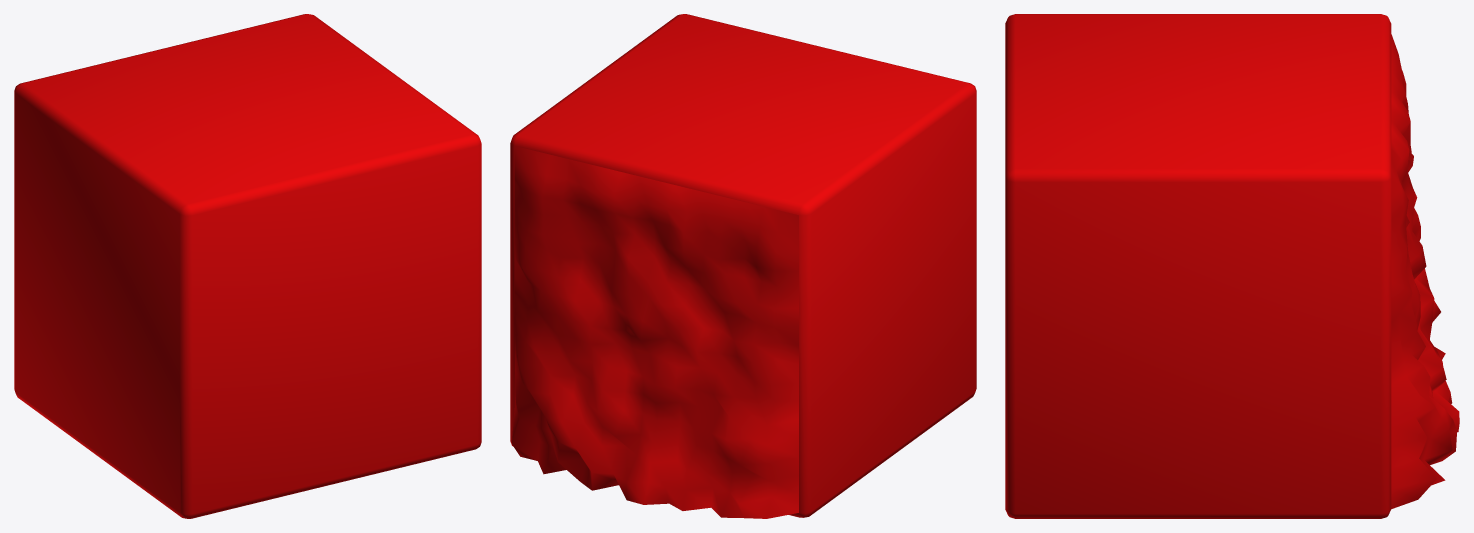
Rendered from wall_death.fbx.
3 renders of one model, left to right at view 1: azimuth 30°, elevation 25°; view 2: azimuth 150°, elevation 25°; view 3: azimuth 270°, elevation 25°, orthographic. The views are drawn at different scales.
Parts seen in each view (by area): view 1: wall_death; view 2: wall_death, wall_death_anim; view 3: wall_death, wall_death_anim.
Part boxes in pixels (box(x1,y1,x2,y2)): wall_death: box(14, 14, 481, 518); wall_death: box(510, 14, 976, 517); wall_death_anim: box(512, 146, 798, 518); wall_death: box(1005, 14, 1391, 518); wall_death_anim: box(1391, 34, 1459, 508).
Size of the model in its own units: 1846 by 1846 by 2173.
